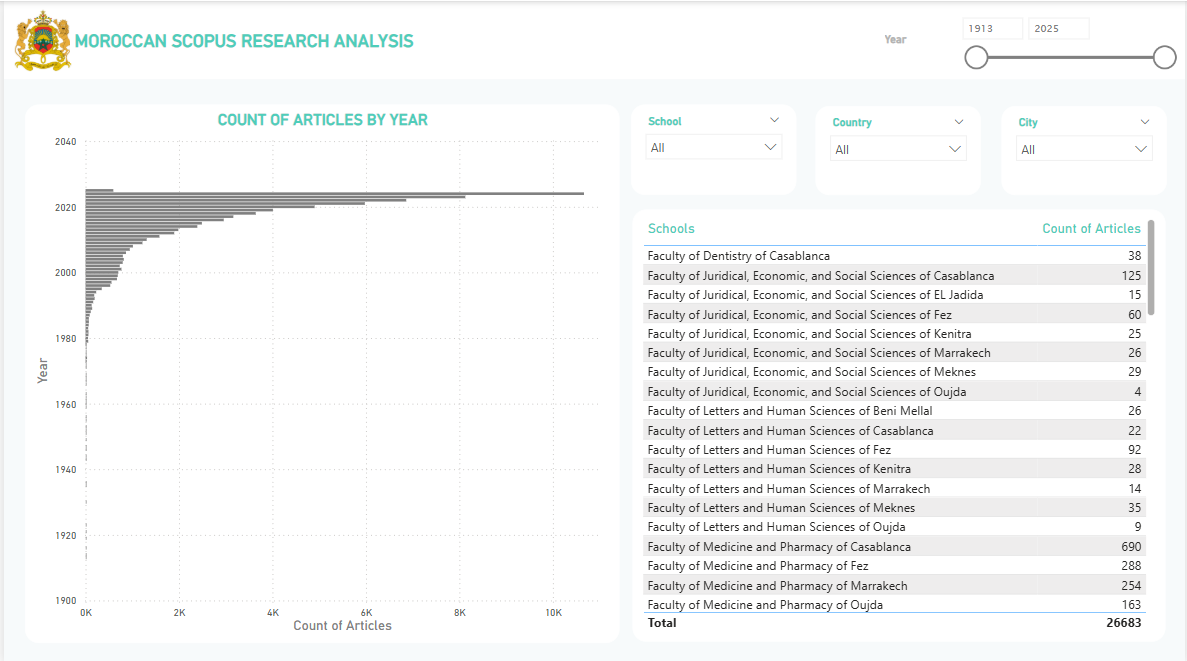

This screenshot's page, from the dashboard's own definition file:
{"tool":"powerbi","page":{"name":"Dashboard4","canvas":[1280,720],"ordinal":3},"visuals":[{"type":"textbox","box":[0,0,1280.5,84.5],"z":0},{"type":"image","box":[0,0,84.5,84.5],"z":1000},{"type":"textbox","box":[71.8,26.5,393.1,41.6],"z":2000},{"type":"textbox","box":[949.9,26,58.6,34.2],"z":3000},{"type":"slicer","fields":{"Values":["Metadata.year"]},"box":[1026.3,8.1,253.7,76.4],"z":4000},{"type":"slicer","fields":{"Values":["Affiliation.city"]},"box":[1081,113.4,179.5,96.4],"z":5000},{"type":"slicer","fields":{"Values":["Affiliation.country"]},"box":[880.6,113.4,179.5,96.4],"z":6000},{"type":"slicer","fields":{"Values":["Affiliation.school"]},"box":[680.3,111.5,179.5,98.3],"z":7000},{"type":"barChart","title":"COUNT OF ARTICLES BY YEAR","fields":{"Category":["Metadata.year"],"Y":["CountNonNull(Metadata.doc_id)"]},"box":[22.7,111.5,644.4,583.9],"z":8000},{"type":"tableEx","fields":{"Values":["Affiliation.school","Metadata.doc_id"]},"box":[682.2,226.8,578.3,468.7],"z":9000}]}

Visuals, with their boxes in screenshot pixels (x1, y1, x2, y2), scaled from the page's 1280x720 canvas onto the 1187x661 screenshot:
textbox: rect(0, 0, 1186, 78)
image: rect(0, 0, 78, 78)
textbox: rect(67, 24, 431, 63)
textbox: rect(881, 24, 935, 55)
slicer - Metadata.year: rect(952, 7, 1186, 78)
slicer - Affiliation.city: rect(1002, 104, 1169, 193)
slicer - Affiliation.country: rect(817, 104, 983, 193)
slicer - Affiliation.school: rect(631, 102, 797, 193)
"COUNT OF ARTICLES BY YEAR" barChart: rect(21, 102, 619, 638)
tableEx - Affiliation.school x Metadata.doc_id: rect(633, 208, 1169, 639)
